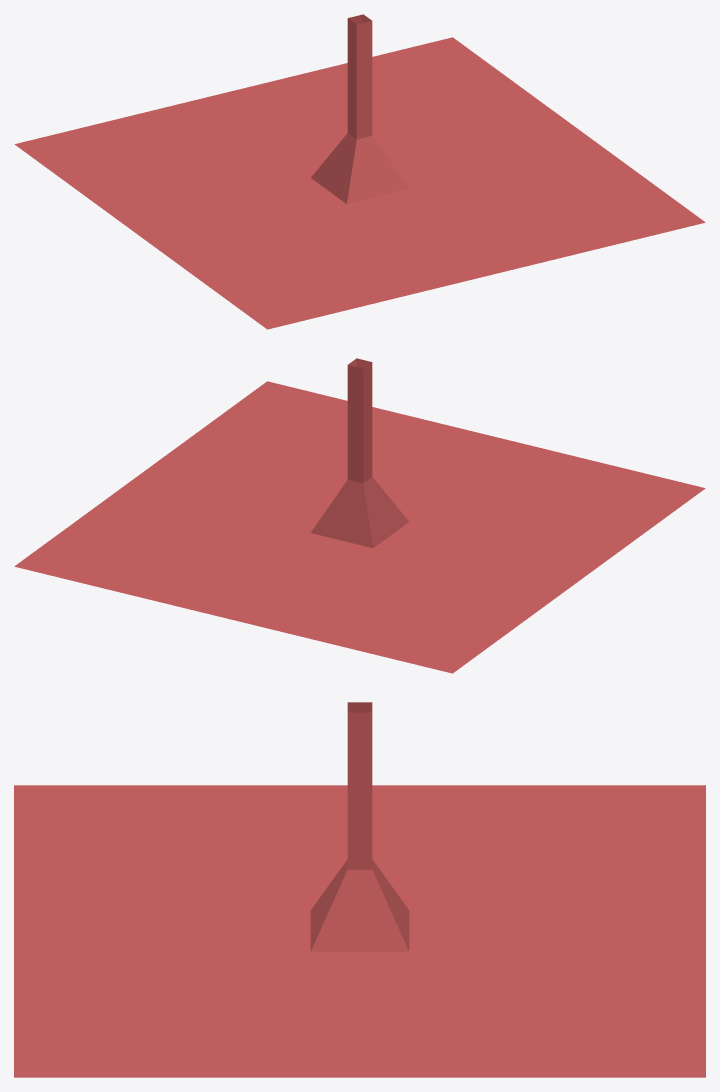
The model's file is th_mery_go.glb.
3 renders of one model, top to bottom at view 1: azimuth 30°, elevation 25°; view 2: azimuth 150°, elevation 25°; view 3: azimuth 270°, elevation 25°, orthographic. The views are drawn at different scales.
Visible parts, largest first — view 1: th_mery_go_col; view 2: th_mery_go_col; view 3: th_mery_go_col.
Part boxes in pixels (x1,y1,x2,y2): th_mery_go_col: [14, 14, 705, 329]; th_mery_go_col: [14, 358, 705, 673]; th_mery_go_col: [14, 702, 705, 1077].
Size of the model in its own units: 2.8 by 1 by 2.8.
